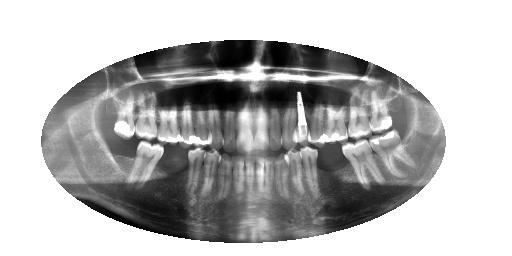i10healthy: (228, 151, 248, 211)
i11healthy: (213, 151, 234, 206)
i12healthy: (200, 148, 224, 208)
i13healthy: (181, 143, 207, 208)
i14loss: (155, 142, 191, 205)
i15healthy: (122, 139, 168, 198)
i16loss: (101, 126, 141, 176)
i1healthy: (367, 121, 418, 180)
i2healthy: (343, 139, 385, 194)
i3loss: (311, 141, 363, 193)
i4healthy: (298, 141, 325, 202)
i5healthy: (282, 144, 306, 204)
i6healthy: (271, 145, 293, 206)
i7healthy: (262, 151, 275, 209)
i8healthy: (251, 151, 270, 206)
i9healthy: (243, 152, 257, 211)
u10healthy: (222, 106, 237, 153)
u11decay: (201, 101, 227, 153)
u12healthy: (188, 100, 213, 153)
u13healthy: (176, 102, 202, 151)
u14healthy: (152, 96, 186, 148)
u15healthy: (132, 86, 161, 143)
u16healthy: (111, 87, 139, 143)
u1healthy: (364, 86, 397, 134)
u2healthy: (342, 90, 374, 140)
u3healthy: (322, 97, 350, 146)
u4healthy: (304, 84, 329, 151)
u5healthy: (290, 88, 315, 150)
u6healthy: (278, 96, 300, 151)
u7healthy: (265, 98, 284, 154)
u8healthy: (252, 96, 273, 154)
u9healthy: (232, 99, 254, 155)
